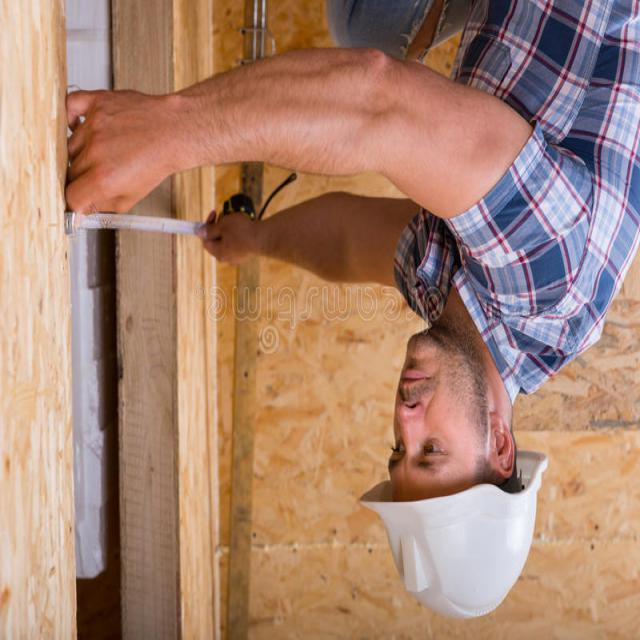safetyhelmet: (363, 321, 544, 614)
